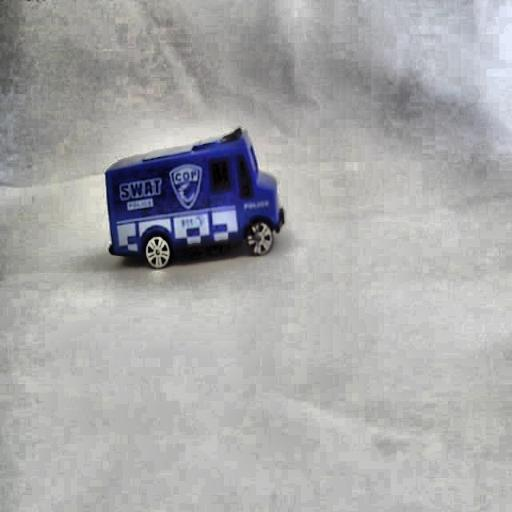police car: (97, 122, 288, 288)
